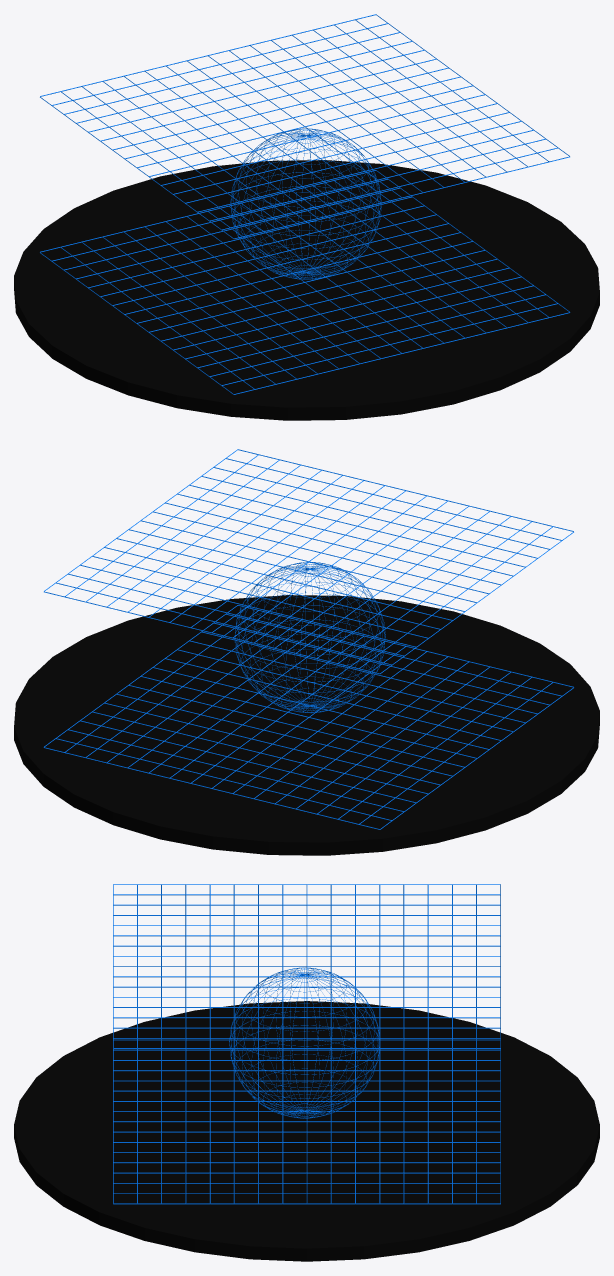
The model's file is centerPiece.glb.
3 renders of one model, top to bottom at view 1: azimuth 30°, elevation 25°; view 2: azimuth 150°, elevation 25°; view 3: azimuth 270°, elevation 25°, orthographic.
Parts seen in each view (by area): view 1: stand, topgrid, lowergrid, sphere; view 2: stand, topgrid, lowergrid, sphere; view 3: stand, lowergrid, topgrid, sphere.
Part boxes in pixels (box(x1,y1,x2,y2)): stand: box(14, 160, 599, 420); topgrid: box(40, 14, 569, 239); lowergrid: box(40, 170, 570, 394); sphere: box(230, 128, 381, 279); stand: box(14, 595, 599, 855); topgrid: box(44, 449, 573, 674); lowergrid: box(43, 605, 573, 829); sphere: box(234, 562, 385, 713); stand: box(14, 1001, 599, 1261); lowergrid: box(113, 1039, 500, 1204); topgrid: box(113, 884, 500, 1048); sphere: box(229, 967, 379, 1118).
Size of the model in its own units: 256 by 82.24 by 256.
